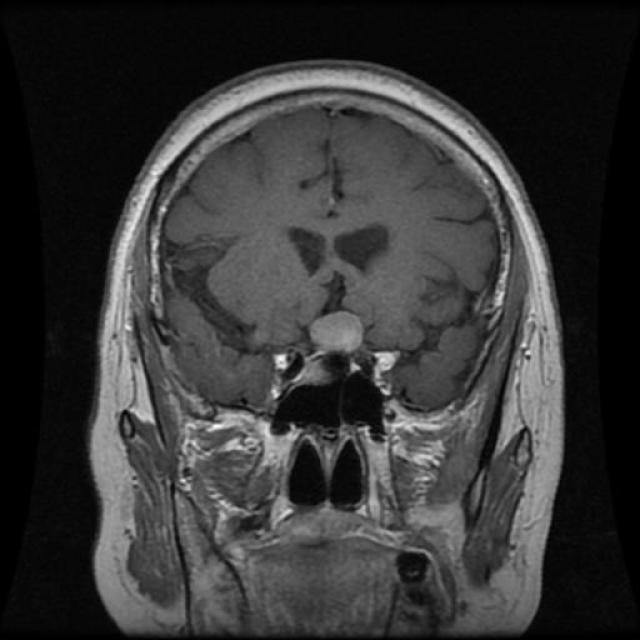brain_tumor: (312, 312, 362, 351)
